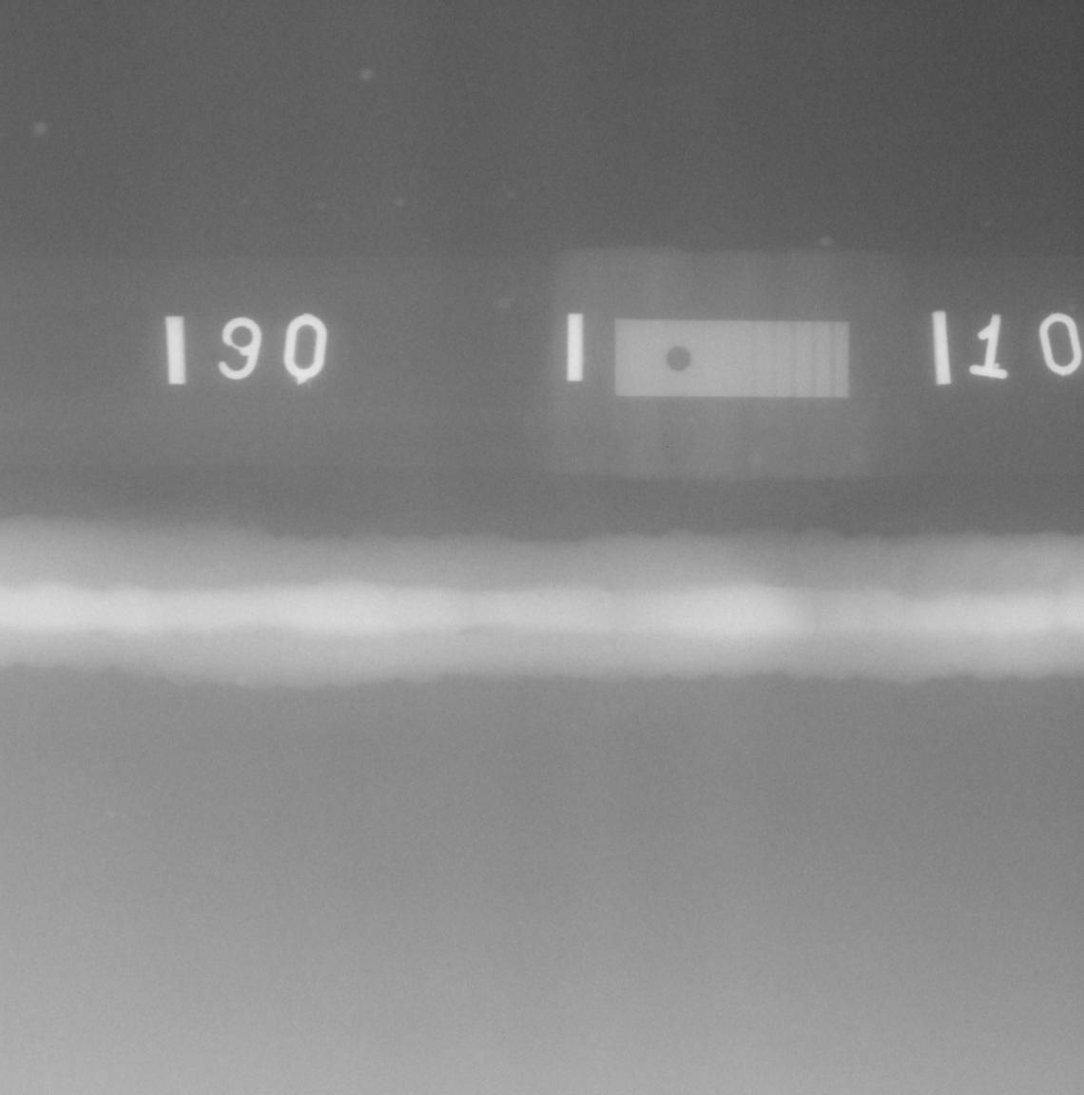Inclusion: (440, 570, 448, 573)
Pore/Porosity: (537, 593, 542, 598)
Reference Standard 1: (614, 320, 848, 398)
